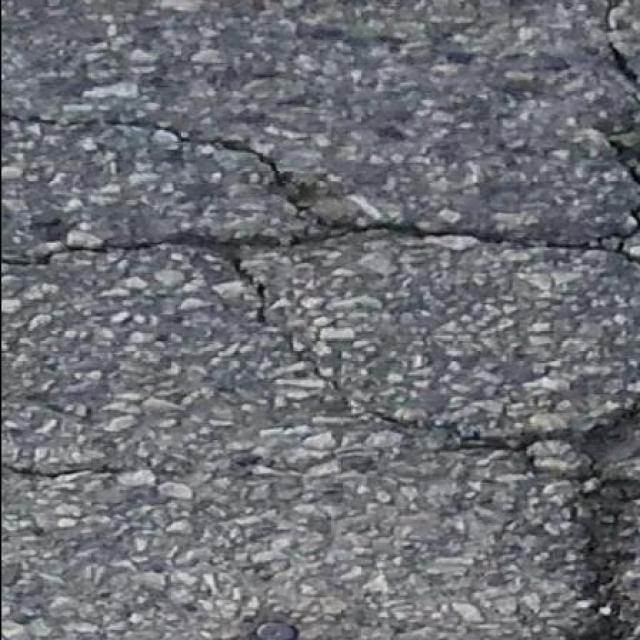Crack: (1, 104, 640, 325), (373, 395, 640, 639), (618, 71, 640, 89)
